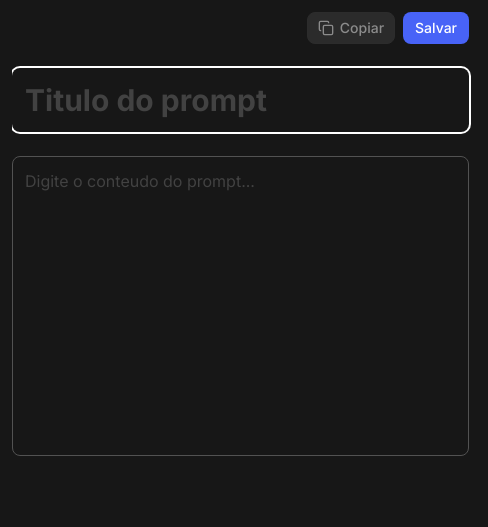
Test: PromptForm › should show an error when form is submitted with empty fields
Click the button "Salvar": [436, 28] box [403,12,469,44]
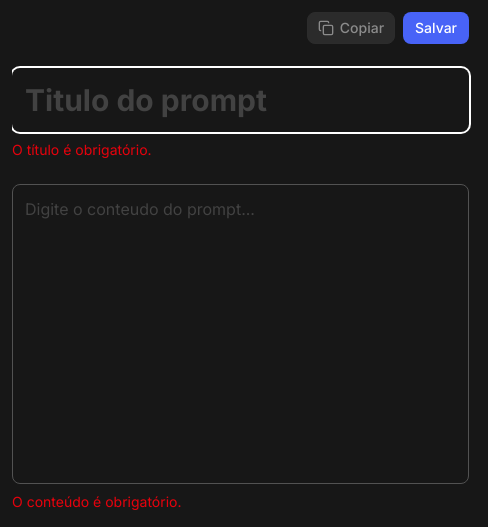
Check: the text "O título é obrigatório." is shown, box [12,141,152,158]
Check: the text "O conteúdo é obrigatório." is shown, box [12,493,182,510]
